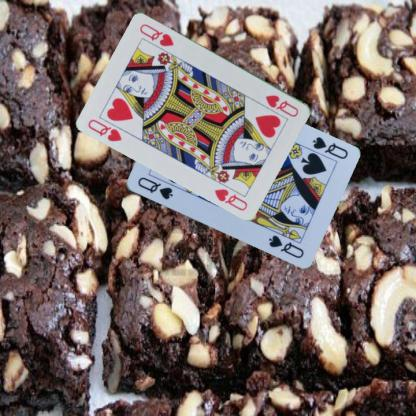Qh: (86, 116, 124, 143), (263, 92, 300, 118)
Qs: (310, 134, 349, 161), (135, 175, 174, 201)
